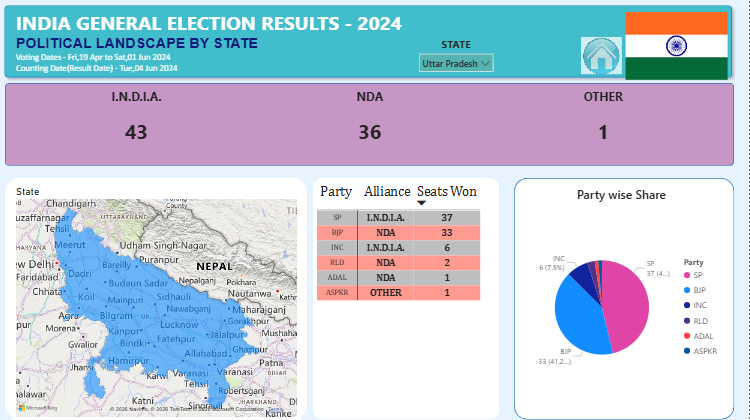

What the dashboard file says about the page in this screenshot:
{"tool":"powerbi","page":{"name":"Polititcal Landscape by State","canvas":[1250,700],"ordinal":3},"visuals":[{"type":"shape","box":[0,0,1230.7,138],"z":0},{"type":"textbox","box":[22.8,10,690,180.7],"z":1000},{"type":"image","box":[1038.3,15,181.7,123.3],"z":2000},{"type":"shape","box":[10,138,1215,138],"z":3000},{"type":"cardVisual","fields":{"Data":["CountNonNull(constituencywise_results.Constituency Name)"],"Rows":["constituencywise_results.Party Alliance(Result)"]},"box":[10,138,1215,138],"z":4000},{"type":"slicer","title":"STATE","fields":{"Values":["states.State"]},"box":[690,61.2,143.7,68.3],"z":5000},{"type":"shape","box":[10,297.4,503.7,402.6],"z":6000},{"type":"filledMap","fields":{"Category":["states.State"]},"box":[22.8,308.7,479.5,391.3],"z":7000},{"type":"shape","box":[523.6,297.4,310.2,402.6],"z":8000},{"type":"pivotTable","fields":{"Values":["Min(constituencywise_results.Party Alliance(Result))","CountNonNull(constituencywise_results.Constituency Name)"],"Rows":["constituencywise_results.Party Short Name"]},"box":[525,297.4,308.7,402.6],"z":9000},{"type":"shape","box":[857.9,297.4,367.1,402.6],"z":10000},{"type":"pieChart","title":"Party wise Share","fields":{"Category":["constituencywise_results.Party Short Name"],"Y":["CountNonNull(constituencywise_results.Constituency Name)"]},"box":[862.2,308.7,351.4,381.3],"z":11000},{"type":"actionButton","box":[970,61.7,68.3,61.7],"z":12000}]}

Visuals, with their boxes in screenshot pixels (x1, y1, x2, y2), scaled from the page's 1250x700 canvas onto the 750x420 screenshot:
shape: detection(0, 0, 738, 83)
textbox: detection(14, 6, 428, 114)
image: detection(623, 9, 732, 83)
shape: detection(6, 83, 735, 166)
cardVisual - CountNonNull(constituencywise_results.Constituency Name) x constituencywise_results.Party Alliance(Result): detection(6, 83, 735, 166)
"STATE" slicer: detection(414, 37, 500, 78)
shape: detection(6, 178, 308, 419)
filledMap - states.State: detection(14, 185, 301, 419)
shape: detection(314, 178, 500, 419)
pivotTable - Min(constituencywise_results.Party Alliance(Result)) x CountNonNull(constituencywise_results.Constituency Name): detection(315, 178, 500, 419)
shape: detection(515, 178, 735, 419)
"Party wise Share" pieChart: detection(517, 185, 728, 414)
actionButton: detection(582, 37, 623, 74)
